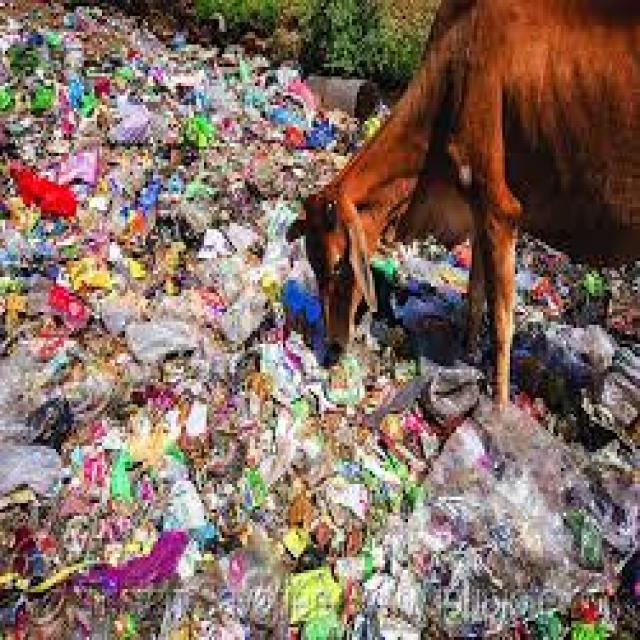plastic: (19, 13, 312, 640)
